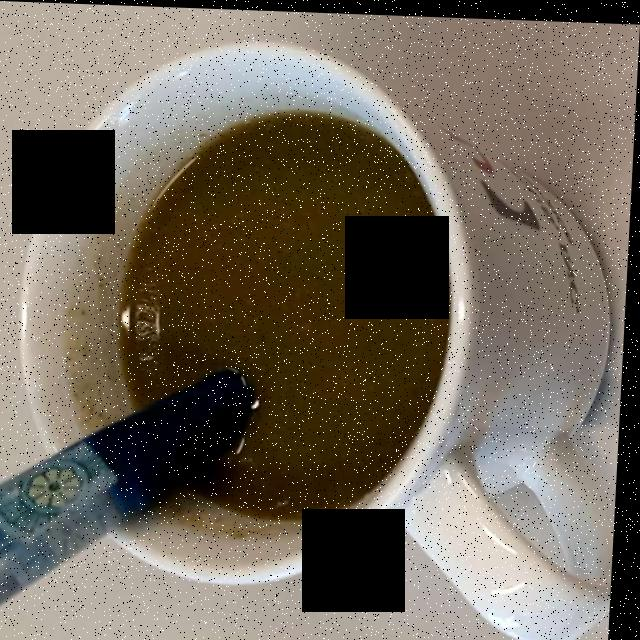soup-vegetable: (135, 107, 433, 515)
